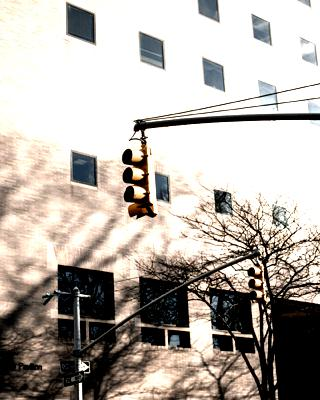International Road Signal Light: (119, 137, 156, 221), (247, 264, 265, 302)
